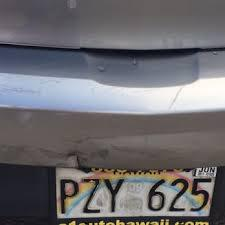front-bumper-dent: (16, 71, 223, 180)
